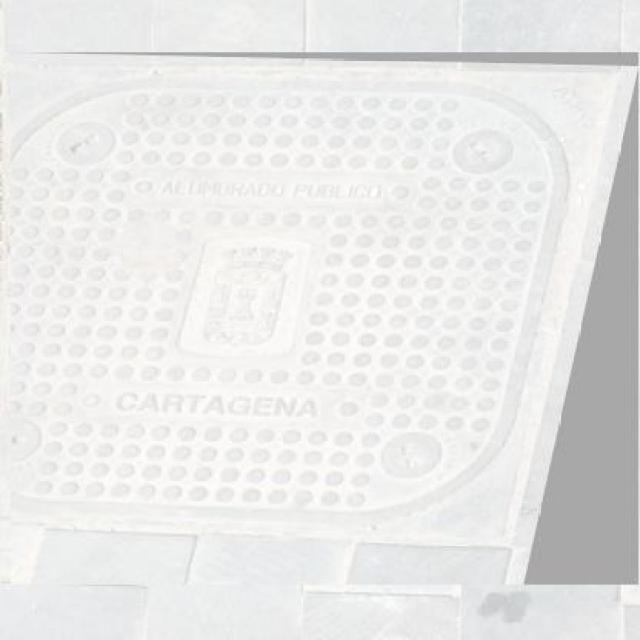Manhole: (11, 52, 638, 585)
